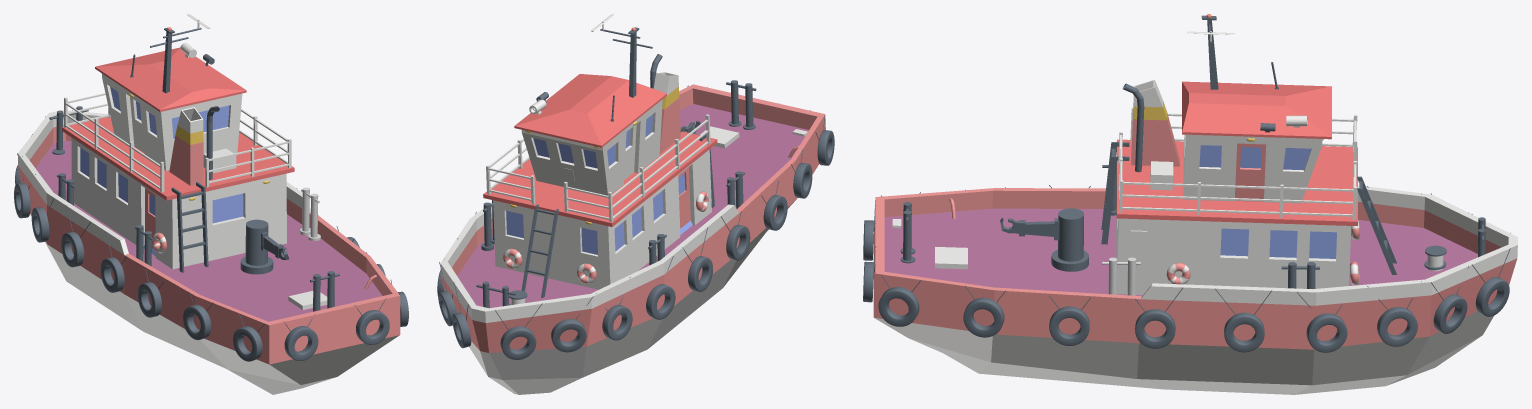
Rendered from boat.glb.
3 renders of one model, left to right at view 1: azimuth 30°, elevation 25°; view 2: azimuth 150°, elevation 25°; view 3: azimuth 270°, elevation 25°, orthographic. The views are drawn at different scales.
Parts seen in each view (by area): view 1: Body, Cube_8_4, Crane, Cube_1_3, Cube_8_5, Cylinder_5_21, Cylinder_5_23, Cylinder, Cylinder_5_22, Cylinder_5_19, Cylinder_5_18, Cylinder_5_17 (+4 smaller); view 2: Body, Cube_8_4, Cube_8_6, Cube_13_2, Cylinder_5_13, Cylinder_5_14, Cylinder_5_15, Cylinder_5_16, Cylinder_5_17, Cylinder_5_18, Cylinder_5_20, Cylinder_5_19 (+3 smaller); view 3: Body, Crane, Cube_8_6, Cylinder_5_8, Cylinder_5_9, Cylinder_5_6, Cylinder_5_12, Cylinder_5_10, Cylinder_4_3, Cylinder_5_11, Cylinder_2_2, Cylinder_3_3 (+4 smaller).
Part boxes in pixels (box(x1,y1,x2,y2)): Body: box(18, 14, 400, 394); Cube_8_4: box(64, 93, 164, 192); Crane: box(240, 219, 288, 274); Cube_1_3: box(171, 182, 208, 272); Cube_8_5: box(205, 139, 291, 186); Cylinder_5_21: box(283, 314, 318, 360); Cylinder_5_23: box(354, 298, 389, 344); Cylinder: box(300, 187, 320, 240); Cylinder_5_22: box(233, 314, 264, 361); Cylinder_5_19: box(183, 292, 213, 340); Cylinder_5_18: box(100, 231, 126, 292); Cylinder_5_17: box(61, 205, 90, 267); Body: box(440, 14, 825, 394); Cube_8_4: box(563, 114, 710, 222); Cube_8_6: box(486, 138, 535, 204); Cube_13_2: box(521, 204, 558, 297); Cylinder_5_13: box(495, 303, 542, 359); Cylinder_5_14: box(551, 296, 593, 352); Cylinder_5_15: box(596, 277, 632, 340); Cylinder_5_16: box(646, 256, 675, 319); Cylinder_5_17: box(682, 227, 712, 291); Cylinder_5_18: box(720, 211, 750, 260); Cylinder_5_20: box(761, 181, 787, 230); Cylinder_5_19: box(791, 149, 812, 198); Body: box(873, 14, 1517, 394); Crane: box(1000, 208, 1088, 271); Cube_8_6: box(1122, 161, 1357, 219); Cylinder_5_8: box(1215, 288, 1271, 352); Cylinder_5_9: box(1135, 287, 1183, 348); Cylinder_5_6: box(1297, 292, 1347, 352); Cylinder_5_12: box(878, 274, 920, 326); Cylinder_5_10: box(963, 286, 1005, 337); Cylinder_4_3: box(1367, 281, 1421, 346); Cylinder_5_11: box(1049, 296, 1090, 345); Cylinder_2_2: box(1471, 248, 1510, 316); Cylinder_3_3: box(1431, 265, 1468, 333).
Size of the model in its own units: 5.68 by 8.07 by 13.26.
